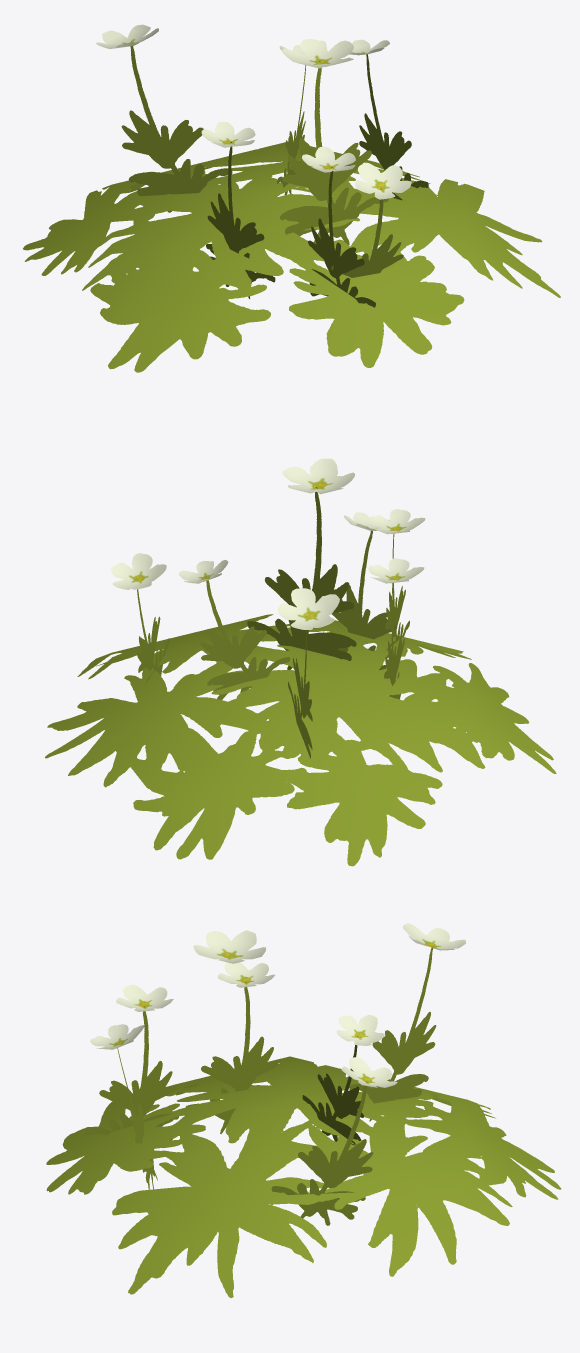
The model's file is flowerWhite.fbx.
3 renders of one model, top to bottom at view 1: azimuth 30°, elevation 25°; view 2: azimuth 150°, elevation 25°; view 3: azimuth 270°, elevation 25°, orthographic.
Visible parts, largest first — view 1: flowerWhite; view 2: flowerWhite; view 3: flowerWhite.
Part boxes in pixels (x1,y1,x2,y2): flowerWhite: (23,24,560,372); flowerWhite: (45,458,556,866); flowerWhite: (46,923,561,1298).
Size of the model in its own units: 63.51 by 28.86 by 55.
